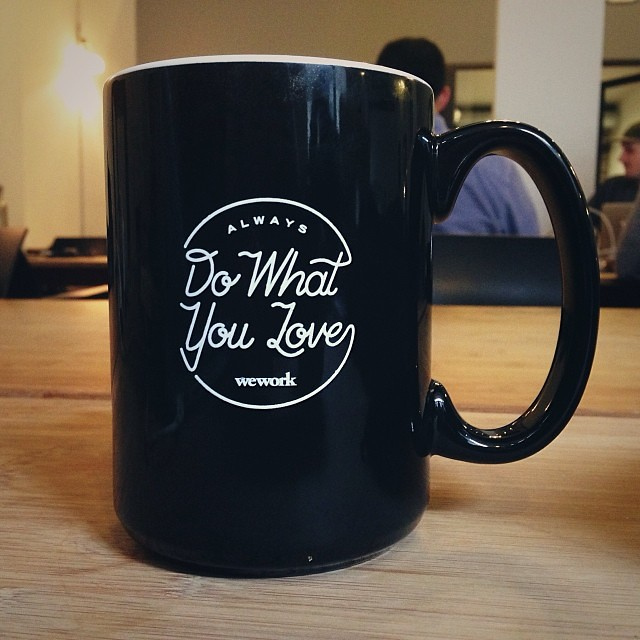wework: (232, 369, 301, 389)
